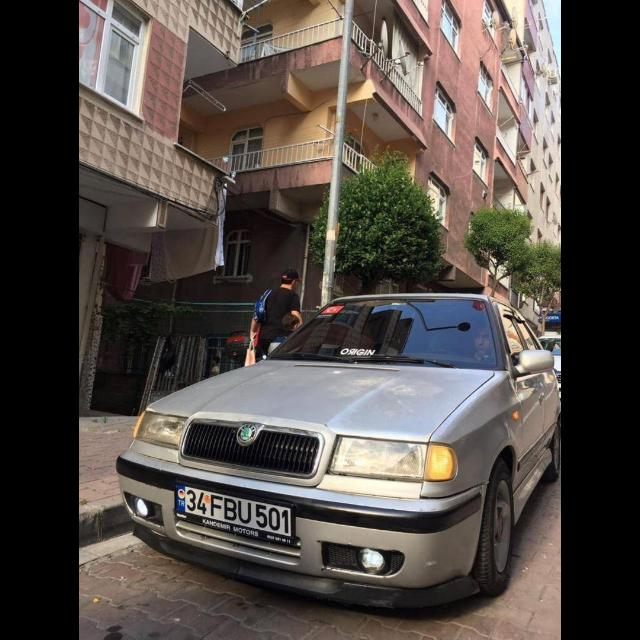Plaka: (178, 484, 294, 538)
